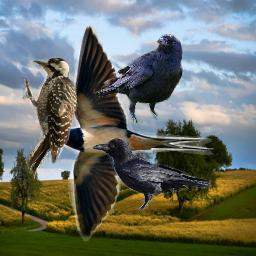Crow: (92, 138, 212, 212), (93, 34, 183, 124)
Swallow: (52, 23, 214, 242)
Woodpecker: (21, 54, 78, 181)
